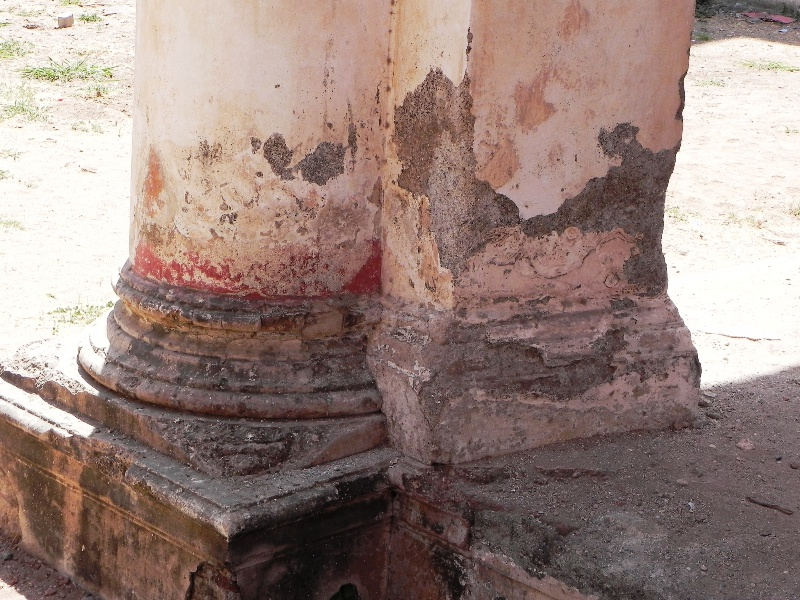Spalling: (388, 47, 520, 280), (527, 111, 678, 308), (438, 322, 627, 408), (246, 117, 365, 192)
